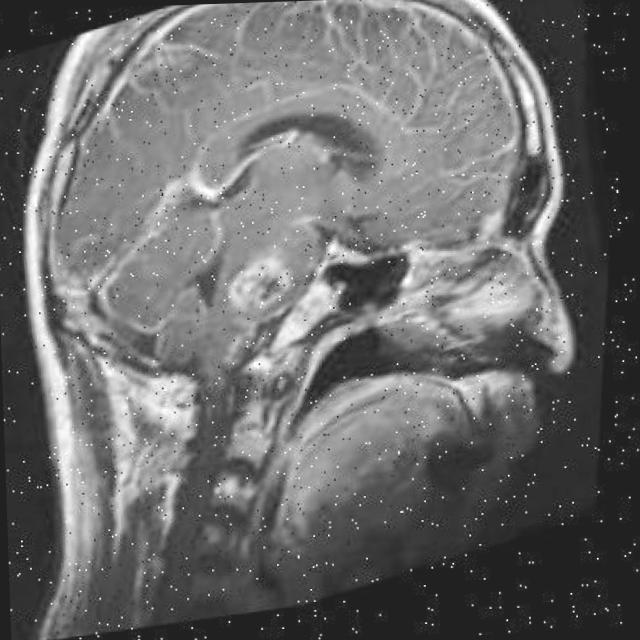LMCI: (205, 89, 373, 202)
